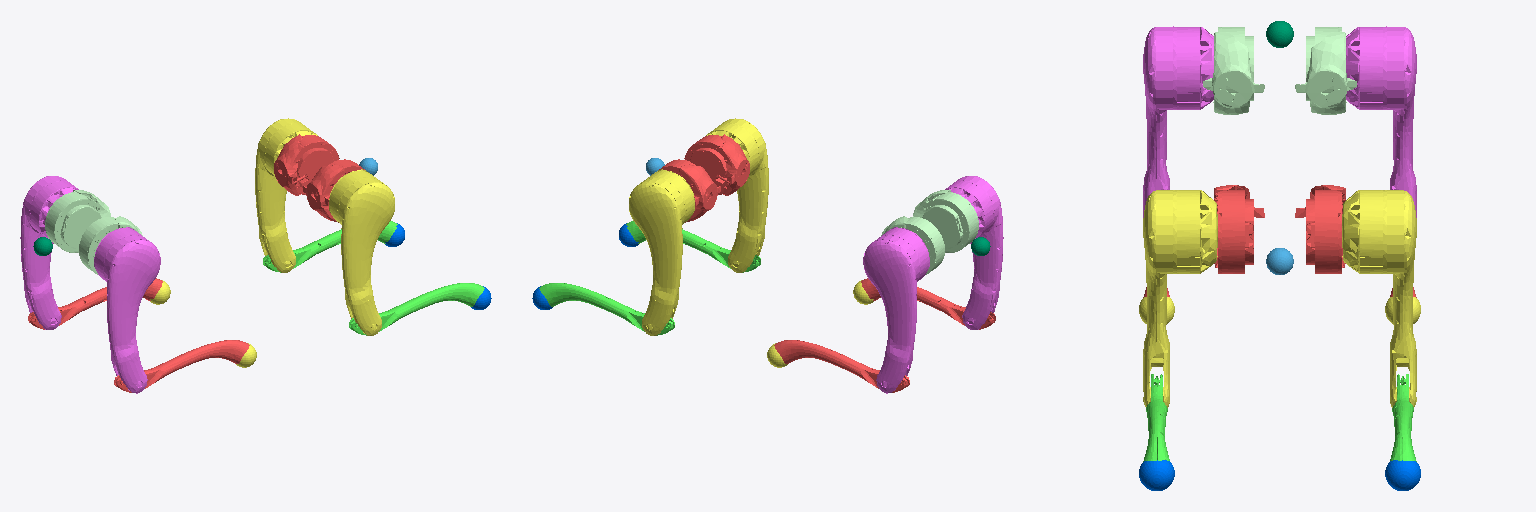
robot.urdf — grq20_v1d6_airy:
<robot name="grq20_v1d6_airy">
  <link name="base_link">
    <inertial>
      <origin xyz="0.0094498 -0.0090544 0.0024967" rpy="0 0 0" />
      <mass value="19.9426357" />
      <inertia ixx="0.12497" iyy="0.576588" izz="0.6287693" ixy="0.0004594" ixz="-0.0137517" iyz="-0.0004353"/>
    </inertial>
    <visual>
      <origin xyz="0 0 0" rpy="0 0 0" />
      <geometry>
        <mesh filename="package://robot_visualization/assets/grq20_v1d6_airy/meshes/meshes_simplify/TRUCK.STL" scale="1 1 1"/>
      </geometry>
      <material name="">
        <color rgba="0.8 0.4 0 1" />
      </material>
    </visual>
    <collision>
      <origin xyz="0 0 -0.0145" rpy="0 0 0"/>
      <geometry>
        <box size="0.43 0.274 0.185" />
      </geometry>
    </collision>
    <collision>
      <origin xyz="0.3145 0 -0.003" rpy="0 0 0"/>
      <geometry>
        <box size="0.199 0.150 0.162" />
      </geometry>
    </collision>
    <collision>
      <origin xyz="0.3138 0 0.1195" rpy="0 0 0"/>
      <geometry>
        <box size="0.088 0.088 0.083" />
      </geometry>
    </collision>
    <collision>
      <origin xyz="-0.312 0 0" rpy="0 0 0"/>
      <geometry>
        <box size="0.194 0.12 0.148" />
      </geometry>
    </collision>
    <!-- template_collision_placeholder -->
  </link>

  <link name="airy_front">
    <visual>
      <origin xyz="0 0 0" rpy="0 0 0" />
      <geometry>
        <sphere radius="0.02" />
      </geometry>
    </visual>
  </link>

  <joint name="airy_front_joint" type="fixed">
    <origin xyz="0.3792 0.0 0.0" rpy="0 1.5707963 0" />
    <parent link="base_link" />
    <child link="airy_front" />
  </joint>

  <link name="airy_back">
    <visual>
      <origin xyz="0 0 0" rpy="0 0 0" />
      <geometry>
        <sphere radius="0.02" />
      </geometry>
    </visual>
  </link>

  <joint name="airy_back_joint" type="fixed">
    <origin xyz="-0.3947 0.0 0.0" rpy="0 1.5707963 3.1415926" />
    <parent link="base_link" />
    <child link="airy_back" />
  </joint>

  <link name="FL_hip">
    <inertial>
      <origin xyz="-0.0034539 0.0001471 -0.0009605" rpy="0 0 0" />
      <mass value="1.6459372" />
      <inertia ixx="0.0004144" iyy="0.000796" izz="0.0005767" ixy="1e-05" ixz="1.5e-06" iyz="-1.4e-06"/>
    </inertial>
    <visual>
      <origin xyz="0 0 0" rpy="0 0 0" />
      <geometry>
        <mesh filename="package://robot_visualization/assets/grq20_v1d6_airy/meshes/meshes_simplify/FL_HIP.STL" scale="1 1 1"/>
      </geometry>
      <material name="">
        <color rgba="1 0.4 0.4 1" />
      </material>
    </visual>
    <!-- <collision>
      <origin xyz="0 0 0" rpy="0 0 0"/>
      <geometry>
        <mesh filename="package://robot_visualization/assets/grq20_v1d6_airy/meshes/meshes_simplify/FL_HIP.STL" scale="1 1 1"/>
      </geometry>
    </collision> -->
    <!-- template_collision_placeholder -->
  </link>

  <joint name="FL_hip_joint" type="revolute">
    <origin xyz="0.279 0.067 0" rpy="0 0 0" />
    <parent link="base_link" />
    <child link="FL_hip" />
    <axis xyz="1 0 0" />
    <limit lower="-0.78539815" upper="0.78539815" effort="120" velocity="12.0" />
  </joint>

  <link name="FL_thigh">
    <inertial>
      <origin xyz="-0.0028001 -0.0368096 -0.0239021" rpy="0 0 0" />
      <mass value="2.2115554" />
      <inertia ixx="0.012133" iyy="0.0117725" izz="0.0019164" ixy="0.0002099" ixz="-0.000542" iyz="0.0020399"/>
    </inertial>
    <visual>
      <origin xyz="0 0 0" rpy="0 0 0" />
      <geometry>
        <mesh filename="package://robot_visualization/assets/grq20_v1d6_airy/meshes/meshes_simplify/FL_THIGH.STL" scale="1 1 1"/>
      </geometry>
      <material name="">
        <color rgba="1 1 0.4 1" />
      </material>
    </visual>
    <collision>
      <origin xyz="-0.025 0 -0.15" rpy="0 0 0"/>
      <geometry>
        <box size="0.05 0.02 0.18" />
      </geometry>
    </collision>
    <collision>
      <origin xyz="0 -0.065 0" rpy="1.57 1.57 0"/>
      <geometry>
        <cylinder radius="0.06" length="0.14" />
      </geometry>
    </collision>
    <!-- template_collision_placeholder -->
  </link>

  <joint name="FL_thigh_joint" type="revolute">
    <origin xyz="0 0.1103 0" rpy="0 0 0" />
    <parent link="FL_hip" />
    <child link="FL_thigh" />
    <axis xyz="0 1 0" />
    <limit lower="-1.762783" upper="3.647738" effort="120" velocity="12.0" />
  </joint>

  <link name="FL_calf">
    <inertial>
      <origin xyz="0.006276 6e-05 -0.1458107" rpy="0 0 0" />
      <mass value="0.3248308" />
      <inertia ixx="0.0041942" iyy="0.0042423" izz="9.93e-05" ixy="0" ixz="-3e-07" iyz="0"/>
    </inertial>
    <visual>
      <origin xyz="0 0 0" rpy="0 0 0" />
      <geometry>
        <mesh filename="package://robot_visualization/assets/grq20_v1d6_airy/meshes/meshes_simplify/FL_CALF.STL" scale="1 1 1"/>
      </geometry>
      <material name="">
        <color rgba="0.4 1 0.4 1" />
      </material>
    </visual>
    <collision>
      <origin xyz="0.015 0.0 -0.235" rpy="0 0.5 0"/>
      <geometry>
        <box size="0.04 0.02 0.05" />
      </geometry>
    </collision>
    <collision>
      <origin xyz="0.0085 0.0 -0.092" rpy="0 -0.15 0"/>
      <geometry>
        <box size="0.032 0.02 0.27" />
      </geometry>
    </collision>
    <!-- template_collision_placeholder -->
  </link>

  <joint name="FL_calf_joint" type="revolute">
    <origin xyz="0 0 -0.26" rpy="0 0 0" />
    <parent link="FL_thigh" />
    <child link="FL_calf" />
    <axis xyz="0 1 0" />
    <limit lower="-2.740167" upper="-0.383972" effort="120" velocity="12.0" />
  </joint>

  <link name="FL_foot">
    <inertial>
      <origin xyz="0 0 0" rpy="0 0 0" />
      <mass value="0.000204873572147578" />
      <inertia ixx="1.09600066619755e-09" iyy="1.09600066619755e-09" izz="1.09600066619755e-09" ixy="0" ixz="0" iyz="0"/>
    </inertial>
    <visual>
      <origin xyz="0 0 0" rpy="0 0 0" />
      <geometry>
        <sphere radius="0.026" />
      </geometry>
      <material name="">
        <color rgba="0 0.5 1 1" />
      </material>
    </visual>
    <collision>
      <origin xyz="0 0 0" rpy="0 0 0"/>
      <geometry>
        <sphere radius="0.026" />
      </geometry>
    </collision>
    <!-- template_collision_placeholder -->
  </link>

  <joint name="FL_foot_joint" type="fixed">
    <origin xyz="0 0 -0.26" rpy="0 0 0" />
    <parent link="FL_calf" />
    <child link="FL_foot" />
    <axis xyz="0 1 0" />
    <limit lower="0" upper="0" effort="0" velocity="0" />
  </joint>

  <link name="RL_hip">
    <inertial>
      <origin xyz="-0.0034539 0.0001471 -0.0009605" rpy="0 0 0" />
      <mass value="1.6459372" />
      <inertia ixx="0.0004144" iyy="0.000796" izz="0.0005767" ixy="-1e-05" ixz="-1.5e-06" iyz="-1.4e-06"/>
    </inertial>
    <visual>
      <origin xyz="0 0 0" rpy="0 0 0" />
      <geometry>
        <mesh filename="package://robot_visualization/assets/grq20_v1d6_airy/meshes/meshes_simplify/RL_HIP.STL" scale="1 1 1"/>
      </geometry>
      <material name="">
        <color rgba="0.8 1.0 0.8 1" />
      </material>
    </visual>
    <!-- <collision>
      <origin xyz="0 0 0" rpy="0 0 0"/>
      <geometry>
        <mesh filename="package://robot_visualization/assets/grq20_v1d6_airy/meshes/meshes_simplify/RL_HIP.STL" scale="1 1 1"/>
      </geometry>
    </collision> -->
    <!-- template_collision_placeholder -->
  </link>

  <joint name="RL_hip_joint" type="revolute">
    <origin xyz="-0.279 0.067 0" rpy="0 0 0" />
    <parent link="base_link" />
    <child link="RL_hip" />
    <axis xyz="1 0 0" />
    <limit lower="-0.78539815" upper="0.78539815" effort="120" velocity="12.0" />
  </joint>

  <link name="RL_thigh">
    <inertial>
      <origin xyz="-0.0028001 -0.0368096 -0.0239021" rpy="0 0 0" />
      <mass value="2.2115554" />
      <inertia ixx="0.012133" iyy="0.0117725" izz="0.0019164" ixy="0.0002099" ixz="-0.000542" iyz="0.0020399"/>
    </inertial>
    <visual>
      <origin xyz="0 0 0" rpy="0 0 0" />
      <geometry>
        <mesh filename="package://robot_visualization/assets/grq20_v1d6_airy/meshes/meshes_simplify/FL_THIGH.STL" scale="1 1 1"/>
      </geometry>
      <material name="">
        <color rgba="1 0.5 1 1" />
      </material>
    </visual>
    <collision>
      <origin xyz="-0.025 0 -0.15" rpy="0 0 0"/>
      <geometry>
        <box size="0.05 0.02 0.18" />
      </geometry>
    </collision>
    <collision>
      <origin xyz="0 -0.065 0" rpy="1.57 1.57 0"/>
      <geometry>
        <cylinder radius="0.06" length="0.14" />
      </geometry>
    </collision>
    <!-- template_collision_placeholder -->
  </link>

  <joint name="RL_thigh_joint" type="revolute">
    <origin xyz="0 0.1103 0" rpy="0 0 0" />
    <parent link="RL_hip" />
    <child link="RL_thigh" />
    <axis xyz="0 1 0" />
    <limit lower="-1.762783" upper="3.647738" effort="120" velocity="12.0" />
  </joint>

  <link name="RL_calf">
    <inertial>
      <origin xyz="0.006276 6e-05 -0.1458107" rpy="0 0 0" />
      <mass value="0.3248308" />
      <inertia ixx="0.0041942" iyy="0.0042423" izz="9.93e-05" ixy="0" ixz="-3e-07" iyz="0"/>
    </inertial>
    <visual>
      <origin xyz="0 0 0" rpy="0 0 0" />
      <geometry>
        <mesh filename="package://robot_visualization/assets/grq20_v1d6_airy/meshes/meshes_simplify/FL_CALF.STL" scale="1 1 1"/>
      </geometry>
      <material name="">
        <color rgba="1 0.4 0.4 1" />
      </material>
    </visual>
    <collision>
      <origin xyz="0.015 0.0 -0.235" rpy="0 0.5 0"/>
      <geometry>
        <box size="0.04 0.02 0.05" />
      </geometry>
    </collision>
    <collision>
      <origin xyz="0.0085 0.0 -0.092" rpy="0 -0.15 0"/>
      <geometry>
        <box size="0.032 0.02 0.27" />
      </geometry>
    </collision>
    <!-- template_collision_placeholder -->
  </link>

  <joint name="RL_calf_joint" type="revolute">
    <origin xyz="0 0 -0.26" rpy="0 0 0" />
    <parent link="RL_thigh" />
    <child link="RL_calf" />
    <axis xyz="0 1 0" />
    <limit lower="-2.740167" upper="-0.383972" effort="120" velocity="12.0" />
  </joint>

  <link name="RL_foot">
    <inertial>
      <origin xyz="0 0 0" rpy="0 0 0" />
      <mass value="0.000204873572147578" />
      <inertia ixx="1.09600066619755e-09" iyy="1.09600066619755e-09" izz="1.09600066619755e-09" ixy="0" ixz="0" iyz="0"/>
    </inertial>
    <visual>
      <origin xyz="0 0 0" rpy="0 0 0" />
      <geometry>
        <sphere radius="0.026" />
      </geometry>
      <material name="">
        <color rgba="1 1 0.4 1" />
      </material>
    </visual>
    <collision>
      <origin xyz="0 0 0" rpy="0 0 0"/>
      <geometry>
        <sphere radius="0.026" />
      </geometry>
    </collision>
    <!-- template_collision_placeholder -->
  </link>

  <joint name="RL_foot_joint" type="fixed">
    <origin xyz="0 0 -0.26" rpy="0 0 0" />
    <parent link="RL_calf" />
    <child link="RL_foot" />
    <axis xyz="0 1 0" />
    <limit lower="0" upper="0" effort="0" velocity="0" />
  </joint>

  <link name="FR_hip">
    <inertial>
      <origin xyz="-0.0034539 -0.0001471 -0.0009605" rpy="0 0 0" />
      <mass value="1.6459372" />
      <inertia ixx="0.0004144" iyy="0.000796" izz="0.0005767" ixy="-1e-05" ixz="1.5e-06" iyz="1.4e-06"/>
    </inertial>
    <visual>
      <origin xyz="0 0 0" rpy="0 0 0" />
      <geometry>
        <mesh filename="package://robot_visualization/assets/grq20_v1d6_airy/meshes/meshes_simplify/FL_HIP.STL" scale="1.0 -1.0 1.0"/>
      </geometry>
      <material name="">
        <color rgba="1 0.4 0.4 1" />
      </material>
    </visual>
    <!-- <collision>
      <origin xyz="0 0 0" rpy="0 0 0"/>
      <geometry>
        <mesh filename="package://robot_visualization/assets/grq20_v1d6_airy/meshes/meshes_simplify/FL_HIP.STL" scale="1.0 -1.0 1.0"/>
      </geometry>
    </collision> -->
    <!-- template_collision_placeholder -->
  </link>

  <joint name="FR_hip_joint" type="revolute">
    <origin xyz="0.279 -0.067 0.0" rpy="-0.0 0.0 -0.0" />
    <parent link="base_link" />
    <child link="FR_hip" />
    <axis xyz="1 0 0" />
    <limit lower="-0.78539815" upper="0.78539815" effort="120" velocity="12.0" />
  </joint>

  <link name="FR_thigh">
    <inertial>
      <origin xyz="-0.0028001 0.0368096 -0.0239021" rpy="0 0 0" />
      <mass value="2.2115554" />
      <inertia ixx="0.012133" iyy="0.0117725" izz="0.0019164" ixy="-0.0002099" ixz="-0.000542" iyz="-0.0020399"/>
    </inertial>
    <visual>
      <origin xyz="0 0 0" rpy="0 0 0" />
      <geometry>
        <mesh filename="package://robot_visualization/assets/grq20_v1d6_airy/meshes/meshes_simplify/FL_THIGH.STL" scale="1.0 -1.0 1.0"/>
      </geometry>
      <material name="">
        <color rgba="1 1 0.4 1" />
      </material>
    </visual>
    <collision>
      <origin xyz="-0.025 0 -0.15" rpy="0 0 0"/>
      <geometry>
        <box size="0.05 0.02 0.18" />
      </geometry>
    </collision>
    <collision>
      <origin xyz="0 0.065 0" rpy="1.57 1.57 0"/>
      <geometry>
        <cylinder radius="0.06" length="0.14" />
      </geometry>
    </collision>
    <!-- template_collision_placeholder -->
  </link>

  <joint name="FR_thigh_joint" type="revolute">
    <origin xyz="0.0 -0.1103 0.0" rpy="-0.0 0.0 -0.0" />
    <parent link="FR_hip" />
    <child link="FR_thigh" />
    <axis xyz="0 1 0" />
    <limit lower="-1.762783" upper="3.647738" effort="120" velocity="12.0" />
  </joint>

  <link name="FR_calf">
    <inertial>
      <origin xyz="0.006276 -6e-05 -0.1458107" rpy="0 0 0" />
      <mass value="0.3248308" />
      <inertia ixx="0.0041942" iyy="0.0042423" izz="9.93e-05" ixy="-0.0" ixz="-3e-07" iyz="-0.0"/>
    </inertial>
    <visual>
      <origin xyz="0 0 0" rpy="0 0 0" />
      <geometry>
        <mesh filename="package://robot_visualization/assets/grq20_v1d6_airy/meshes/meshes_simplify/FL_CALF.STL" scale="1.0 -1.0 1.0"/>
      </geometry>
      <material name="">
        <color rgba="0.4 1 0.4 1" />
      </material>
    </visual>
    <collision>
      <origin xyz="0.015 0.0 -0.235" rpy="0 0.5 0"/>
      <geometry>
        <box size="0.04 0.02 0.05" />
      </geometry>
    </collision>
    <collision>
      <origin xyz="0.0085 0.0 -0.092" rpy="0 -0.15 0"/>
      <geometry>
        <box size="0.032 0.02 0.27" />
      </geometry>
    </collision>
    <!-- template_collision_placeholder -->
  </link>

  <joint name="FR_calf_joint" type="revolute">
    <origin xyz="0.0 -0.0 -0.26" rpy="-0.0 0.0 -0.0" />
    <parent link="FR_thigh" />
    <child link="FR_calf" />
    <axis xyz="0 1 0" />
    <limit lower="-2.740167" upper="-0.383972" effort="120" velocity="12.0" />
  </joint>

  <link name="FR_foot">
    <inertial>
      <origin xyz="0.0 -0.0 0.0" rpy="0 0 0" />
      <mass value="0.000204873572147578" />
      <inertia ixx="1.09600066619755e-09" iyy="1.09600066619755e-09" izz="1.09600066619755e-09" ixy="-0.0" ixz="0.0" iyz="-0.0"/>
    </inertial>
    <visual>
      <origin xyz="0 0 0" rpy="0 0 0" />
      <geometry>
        <sphere radius="0.026" />
      </geometry>
      <material name="">
        <color rgba="0 0.5 1 1" />
      </material>
    </visual>
    <collision>
      <origin xyz="0 0 0" rpy="0 0 0"/>
      <geometry>
        <sphere radius="0.026" />
      </geometry>
    </collision>
    <!-- template_collision_placeholder -->
  </link>

  <joint name="FR_foot_joint" type="fixed">
    <origin xyz="0.0 -0.0 -0.26" rpy="-0.0 0.0 -0.0" />
    <parent link="FR_calf" />
    <child link="FR_foot" />
    <axis xyz="0 1 0" />
    <limit lower="0" upper="0" effort="0" velocity="0" />
  </joint>

  <link name="RR_hip">
    <inertial>
      <origin xyz="-0.0034539 -0.0001471 -0.0009605" rpy="0 0 0" />
      <mass value="1.6459372" />
      <inertia ixx="0.0004144" iyy="0.000796" izz="0.0005767" ixy="1e-05" ixz="-1.5e-06" iyz="1.4e-06"/>
    </inertial>
    <visual>
      <origin xyz="0 0 0" rpy="0 0 0" />
      <geometry>
        <mesh filename="package://robot_visualization/assets/grq20_v1d6_airy/meshes/meshes_simplify/RL_HIP.STL" scale="1.0 -1.0 1.0"/>
      </geometry>
      <material name="">
        <color rgba="0.8 1.0 0.8 1" />
      </material>
    </visual>
    <!-- <collision>
      <origin xyz="0 0 0" rpy="0 0 0"/>
      <geometry>
        <mesh filename="package://robot_visualization/assets/grq20_v1d6_airy/meshes/meshes_simplify/RL_HIP.STL" scale="1.0 -1.0 1.0"/>
      </geometry>
    </collision> -->
    <!-- template_collision_placeholder -->
  </link>

  <joint name="RR_hip_joint" type="revolute">
    <origin xyz="-0.279 -0.067 0.0" rpy="-0.0 0.0 -0.0" />
    <parent link="base_link" />
    <child link="RR_hip" />
    <axis xyz="1 0 0" />
    <limit lower="-0.78539815" upper="0.78539815" effort="120" velocity="12.0" />
  </joint>

  <link name="RR_thigh">
    <inertial>
      <origin xyz="-0.0028001 0.0368096 -0.0239021" rpy="0 0 0" />
      <mass value="2.2115554" />
      <inertia ixx="0.012133" iyy="0.0117725" izz="0.0019164" ixy="-0.0002099" ixz="-0.000542" iyz="-0.0020399"/>
    </inertial>
    <visual>
      <origin xyz="0 0 0" rpy="0 0 0" />
      <geometry>
        <mesh filename="package://robot_visualization/assets/grq20_v1d6_airy/meshes/meshes_simplify/FL_THIGH.STL" scale="1.0 -1.0 1.0"/>
      </geometry>
      <material name="">
        <color rgba="1 0.5 1 1" />
      </material>
    </visual>
    <collision>
      <origin xyz="-0.025 0 -0.15" rpy="0 0 0"/>
      <geometry>
        <box size="0.05 0.02 0.18" />
      </geometry>
    </collision>
    <collision>
      <origin xyz="0 0.065 0" rpy="1.57 1.57 0"/>
      <geometry>
        <cylinder radius="0.06" length="0.14" />
      </geometry>
    </collision>
    <!-- template_collision_placeholder -->
  </link>

  <joint name="RR_thigh_joint" type="revolute">
    <origin xyz="0.0 -0.1103 0.0" rpy="-0.0 0.0 -0.0" />
    <parent link="RR_hip" />
    <child link="RR_thigh" />
    <axis xyz="0 1 0" />
    <limit lower="-1.762783" upper="3.647738" effort="120" velocity="12.0" />
  </joint>

  <link name="RR_calf">
    <inertial>
      <origin xyz="0.006276 -6e-05 -0.1458107" rpy="0 0 0" />
      <mass value="0.3248308" />
      <inertia ixx="0.0041942" iyy="0.0042423" izz="9.93e-05" ixy="-0.0" ixz="-3e-07" iyz="-0.0"/>
    </inertial>
    <visual>
      <origin xyz="0 0 0" rpy="0 0 0" />
      <geometry>
        <mesh filename="package://robot_visualization/assets/grq20_v1d6_airy/meshes/meshes_simplify/FL_CALF.STL" scale="1.0 -1.0 1.0"/>
      </geometry>
      <material name="">
        <color rgba="1 0.4 0.4 1" />
      </material>
    </visual>
    <collision>
      <origin xyz="0.015 0.0 -0.235" rpy="0 0.5 0"/>
      <geometry>
        <box size="0.04 0.02 0.05" />
      </geometry>
    </collision>
    <collision>
      <origin xyz="0.0085 0.0 -0.092" rpy="0 -0.15 0"/>
      <geometry>
        <box size="0.032 0.02 0.27" />
      </geometry>
    </collision>
    <!-- template_collision_placeholder -->
  </link>

  <joint name="RR_calf_joint" type="revolute">
    <origin xyz="0.0 -0.0 -0.26" rpy="-0.0 0.0 -0.0" />
    <parent link="RR_thigh" />
    <child link="RR_calf" />
    <axis xyz="0 1 0" />
    <limit lower="-2.740167" upper="-0.383972" effort="120" velocity="12.0" />
  </joint>

  <link name="RR_foot">
    <inertial>
      <origin xyz="0.0 -0.0 0.0" rpy="0 0 0" />
      <mass value="0.000204873572147578" />
      <inertia ixx="1.09600066619755e-09" iyy="1.09600066619755e-09" izz="1.09600066619755e-09" ixy="-0.0" ixz="0.0" iyz="-0.0"/>
    </inertial>
    <visual>
      <origin xyz="0 0 0" rpy="0 0 0" />
      <geometry>
        <sphere radius="0.026" />
      </geometry>
      <material name="">
        <color rgba="1 1 0.4 1" />
      </material>
    </visual>
    <collision>
      <origin xyz="0 0 0" rpy="0 0 0"/>
      <geometry>
        <sphere radius="0.026" />
      </geometry>
    </collision>
    <!-- template_collision_placeholder -->
  </link>

  <joint name="RR_foot_joint" type="fixed">
    <origin xyz="0.0 -0.0 -0.26" rpy="-0.0 0.0 -0.0" />
    <parent link="RR_calf" />
    <child link="RR_foot" />
    <axis xyz="0 1 0" />
    <limit lower="0" upper="0" effort="0" velocity="0" />
  </joint>

  <!-- urdf auto generate tool -->
</robot>

--- What the picture shows (computed from the rendered views, not written in the file) ---
3 views of the same robot in one strip: view 1: azimuth 30°, elevation 25°; view 2: azimuth 150°, elevation 25°; view 3: azimuth 270°, elevation 25° (orthographic).
Robot: grq20_v1d6_airy — 19 links, 18 joints (12 revolute, 6 fixed); root link base_link; default pose: joints at zero except 4 at the middle of their limits (FL_calf_joint = -1.56, RL_calf_joint = -1.56, FR_calf_joint = -1.56, RR_calf_joint = -1.56).
Visible links, largest first — view 1: FR_thigh, RR_thigh, FL_thigh, RL_thigh, RL_hip, FL_hip, RR_calf, FR_calf, FR_hip, RR_hip, RL_calf, FL_calf; view 2: FL_thigh, RL_thigh, FR_thigh, RR_thigh, RR_hip, FR_hip, RL_calf, FL_calf, FL_hip, RL_hip, RR_calf, FR_calf; view 3: FL_thigh, FR_thigh, RL_thigh, RR_thigh, RL_hip, RR_hip, FL_hip, FR_hip, FL_calf, FR_calf, FL_foot, FR_foot (+2 smaller).
Boxes of the visible links, x1,y1,x2,y2 form: FR_thigh: (329, 169, 394, 335); RR_thigh: (94, 227, 160, 393); FL_thigh: (255, 118, 317, 272); RL_thigh: (20, 176, 78, 329); RL_hip: (45, 190, 110, 252); FL_hip: (274, 134, 339, 195); RR_calf: (114, 340, 249, 392); FR_calf: (349, 283, 484, 335); FR_hip: (303, 159, 364, 222); RR_hip: (79, 216, 142, 274); RL_calf: (28, 278, 162, 329); FL_calf: (263, 221, 397, 272); FL_thigh: (629, 169, 694, 335); RL_thigh: (863, 227, 929, 393); FR_thigh: (706, 118, 768, 272); RR_thigh: (945, 176, 1003, 329); RR_hip: (913, 190, 978, 252); FR_hip: (684, 134, 749, 195); RL_calf: (774, 340, 909, 392); FL_calf: (539, 283, 674, 335); FL_hip: (659, 159, 720, 222); RL_hip: (881, 216, 944, 274); RR_calf: (861, 278, 995, 329); FR_calf: (626, 221, 760, 272); FL_thigh: (1342, 190, 1416, 407); FR_thigh: (1143, 190, 1217, 407); RL_thigh: (1346, 26, 1416, 217); RR_thigh: (1143, 26, 1213, 217); RL_hip: (1295, 27, 1356, 114); RR_hip: (1203, 27, 1264, 114); FL_hip: (1295, 185, 1345, 273); FR_hip: (1214, 185, 1264, 273); FL_calf: (1390, 374, 1416, 461); FR_calf: (1143, 374, 1169, 461); FL_foot: (1385, 460, 1420, 490); FR_foot: (1139, 460, 1174, 490).
Size in the robot's own frame: 0.9797 by 0.4066 by 0.3513 metres.
Meshes: 5 distinct files referenced, 12 mesh visuals loaded (4 binary STL); not drawn: 1 (reference not matched to a file when rendering).
